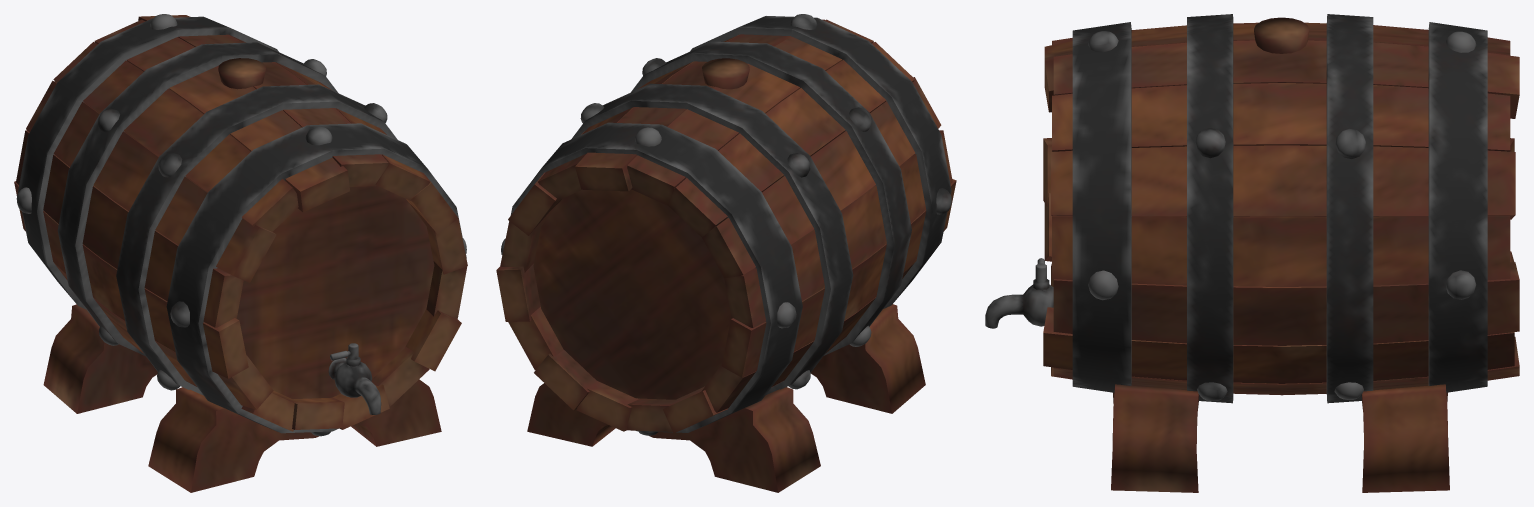
File: stylized-barrel-9e70b5.glb
The picture shows the model from 3 angles, left to right: view 1: azimuth 30°, elevation 25°; view 2: azimuth 150°, elevation 25°; view 3: azimuth 270°, elevation 25°; orthographic projection. The views are drawn at different scales.
Visible parts, largest first — view 1: PropMesh; view 2: PropMesh; view 3: PropMesh.
Part boxes in pixels (x1,y1,x2,y2): PropMesh: (14,14,467,492); PropMesh: (496,14,956,492); PropMesh: (985,14,1519,492).
Size of the model in its own units: 0.767 by 0.85 by 1.05.
1 material, 1 textured.
